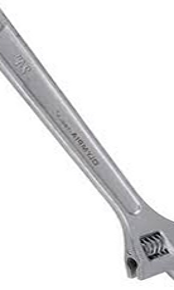Wrench: (1, 8, 174, 290)
